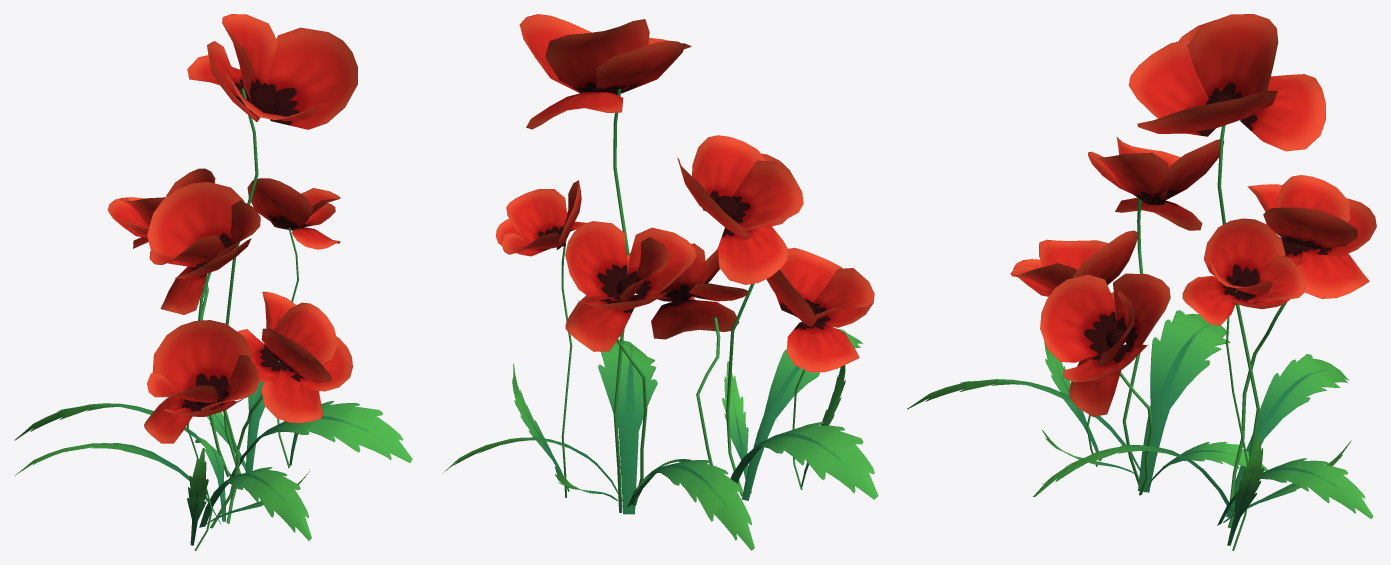
Rendered from SM_Coquelicot1.fbx.
The picture shows the model from 3 angles, left to right: view 1: azimuth 30°, elevation 25°; view 2: azimuth 150°, elevation 25°; view 3: azimuth 270°, elevation 25°; orthographic projection. The views are drawn at different scales.
Parts seen in each view (by area): view 1: Coquelicot_Feuille_023; view 2: Coquelicot_Feuille_023; view 3: Coquelicot_Feuille_023.
Boxes of the visible parts, x1,y1,x2,y2 form: Coquelicot_Feuille_023: (14,14,412,550); Coquelicot_Feuille_023: (442,14,878,550); Coquelicot_Feuille_023: (907,14,1376,550).
Size of the model in its own units: 73.8 by 80.85 by 96.61.
1 material, 1 textured.
